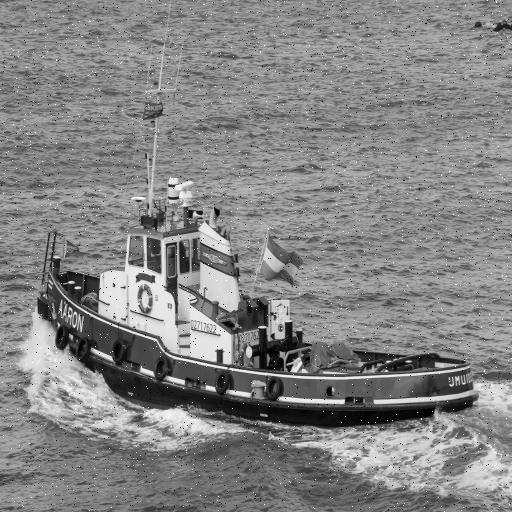tugboat: (33, 172, 483, 440)
